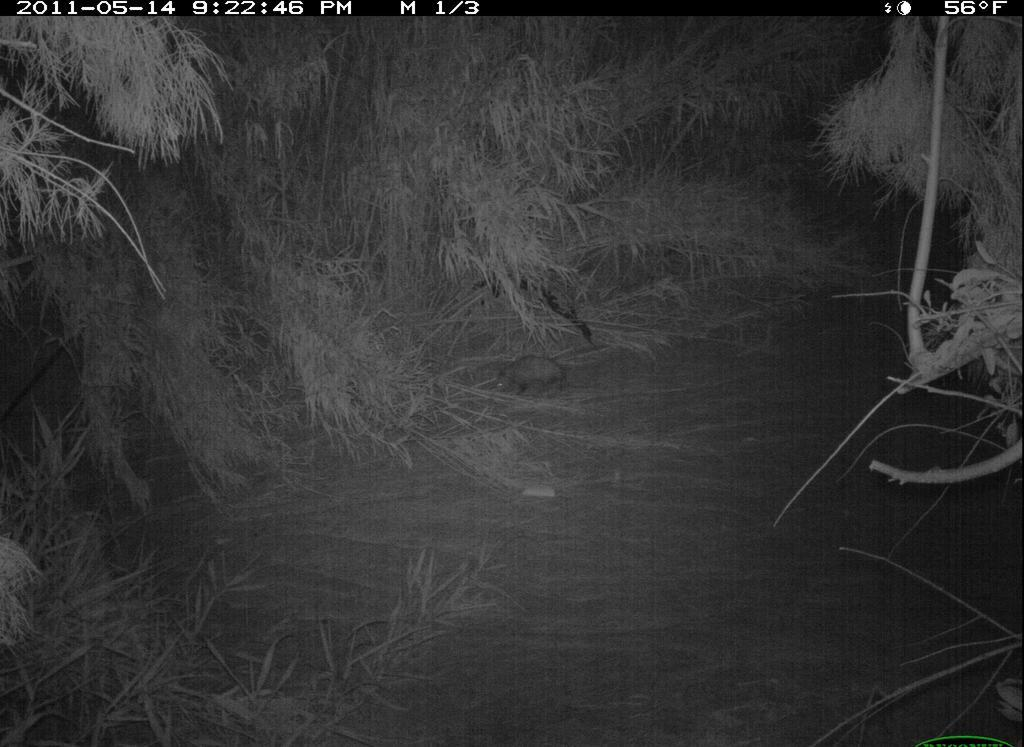opossum: (488, 346, 571, 406)
